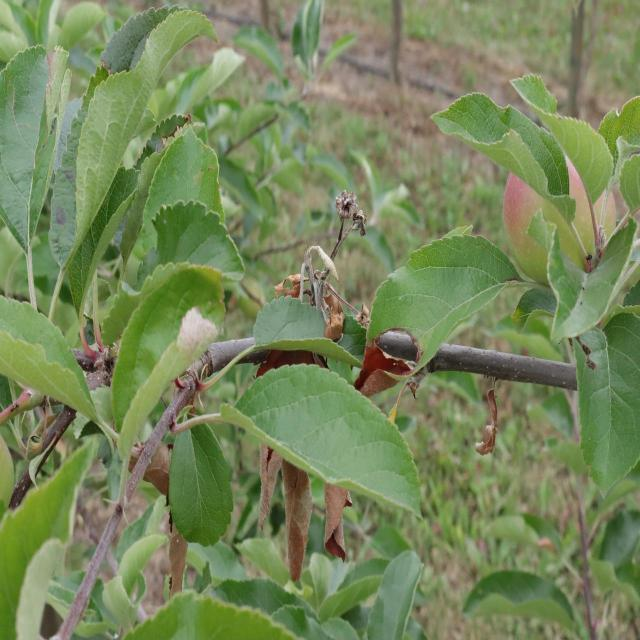-FireBlight-: (262, 429, 320, 575), (350, 337, 432, 395), (290, 266, 362, 328), (120, 435, 183, 484), (162, 500, 190, 604), (322, 481, 360, 552), (484, 386, 502, 463)
